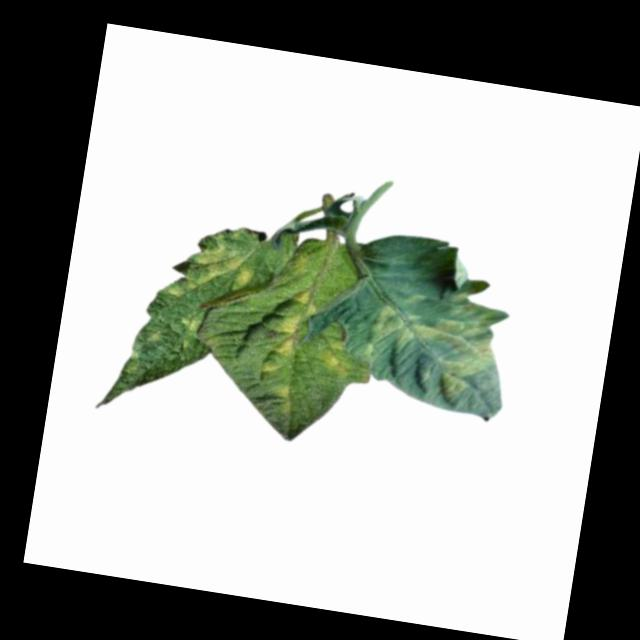Leaf_Mold: (358, 279, 504, 402), (166, 237, 258, 310), (261, 287, 316, 374), (314, 334, 354, 381), (268, 383, 297, 416), (179, 307, 204, 338)
